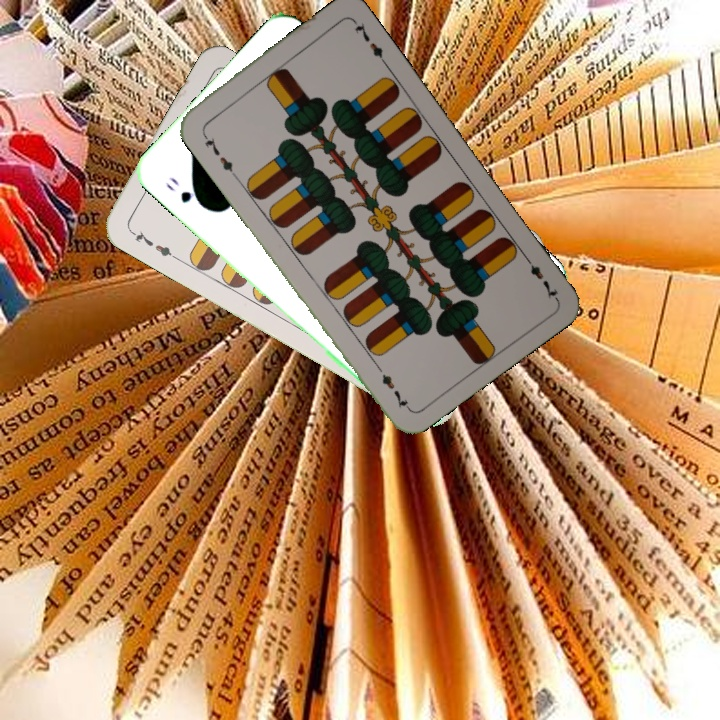E7: (519, 251, 561, 302), (198, 127, 238, 179), (126, 226, 180, 262)
GO: (162, 172, 208, 211)
